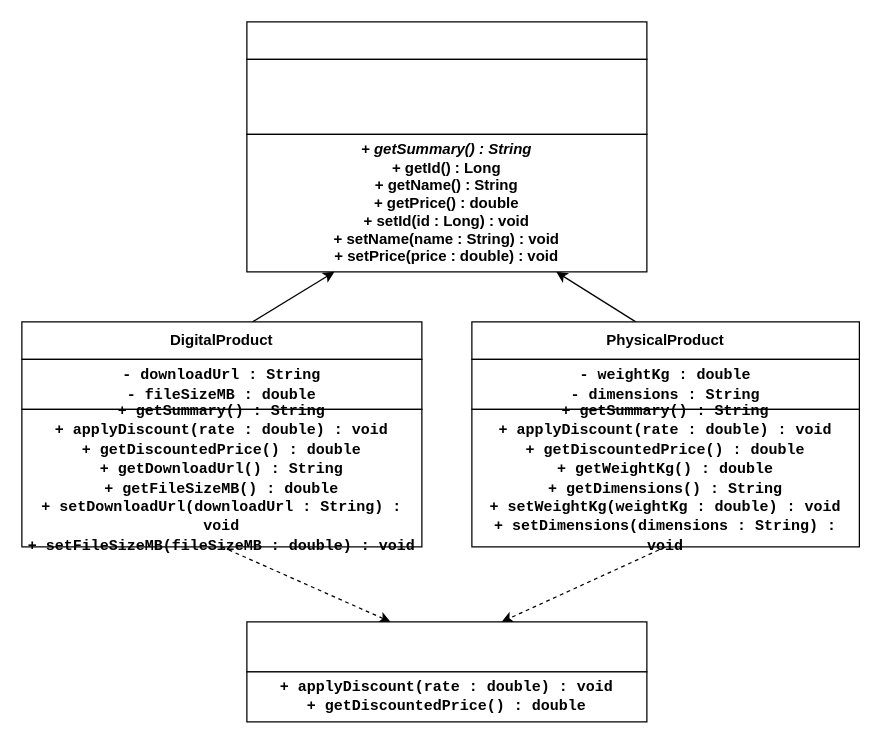
Some shapes in this 881 by 751 pixel diagram are drawn without their labels. The centre of each missing label's shape, as x and y in pixels:
"- id : Long - name : String - price : double" belongs at [446,96].
"Product" belongs at [446,40].
"«interface» Discountable" belongs at [446,646].
